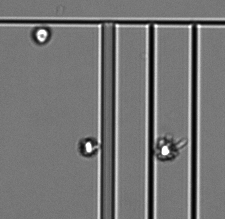Living Cell: (156, 136, 180, 162), (77, 134, 101, 159), (30, 24, 53, 45)
